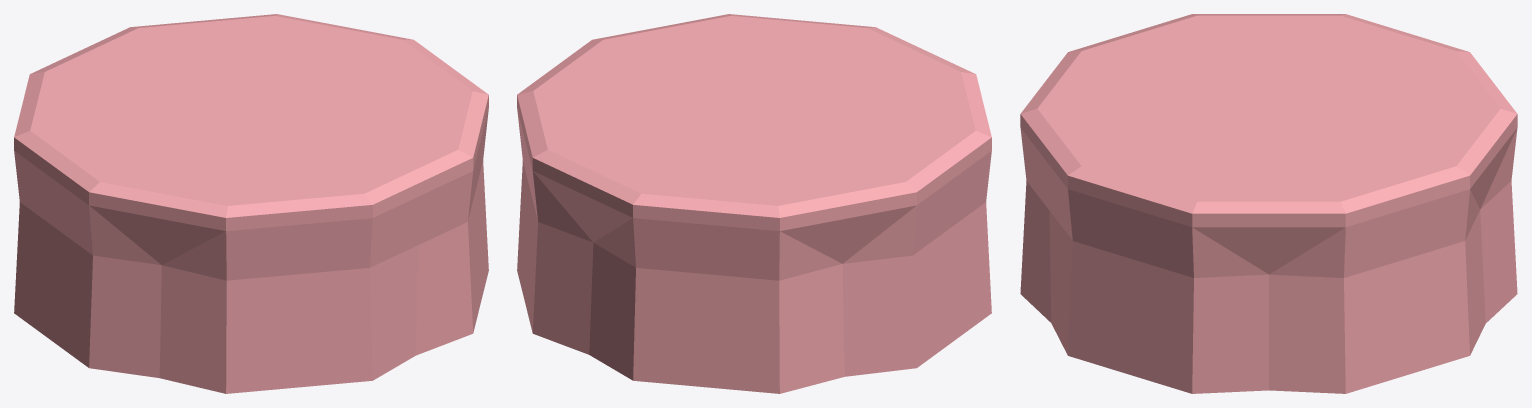
Rendered from table-dining-circle-cloth.fbx.
The picture shows the model from 3 angles, left to right: view 1: azimuth 30°, elevation 25°; view 2: azimuth 150°, elevation 25°; view 3: azimuth 270°, elevation 25°; orthographic projection. The views are drawn at different scales.
Parts seen in each view (by area): view 1: table-dining-circle-cloth; view 2: table-dining-circle-cloth; view 3: table-dining-circle-cloth.
Part boxes in pixels (x1,y1,x2,y2): table-dining-circle-cloth: (14, 14, 488, 393); table-dining-circle-cloth: (517, 14, 991, 393); table-dining-circle-cloth: (1020, 14, 1517, 393).
Bounding box in the file's own units: 1.9 × 0.8233 × 2.
